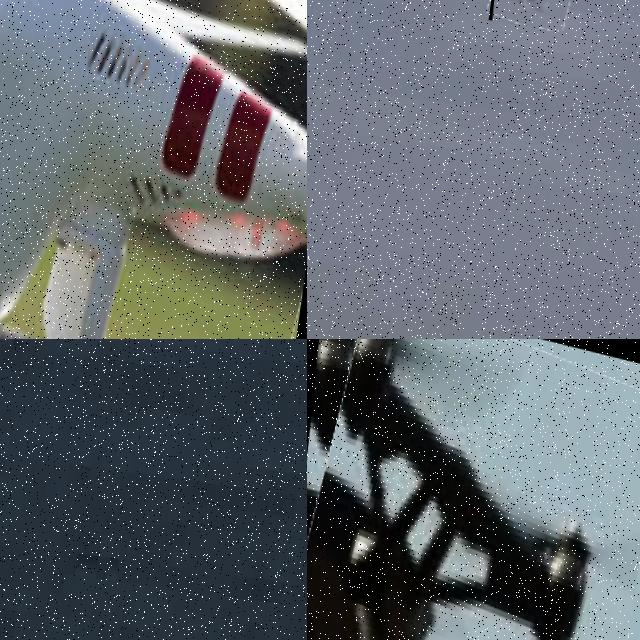drone: (0, 0, 307, 339), (307, 339, 640, 640), (488, 0, 581, 31)
